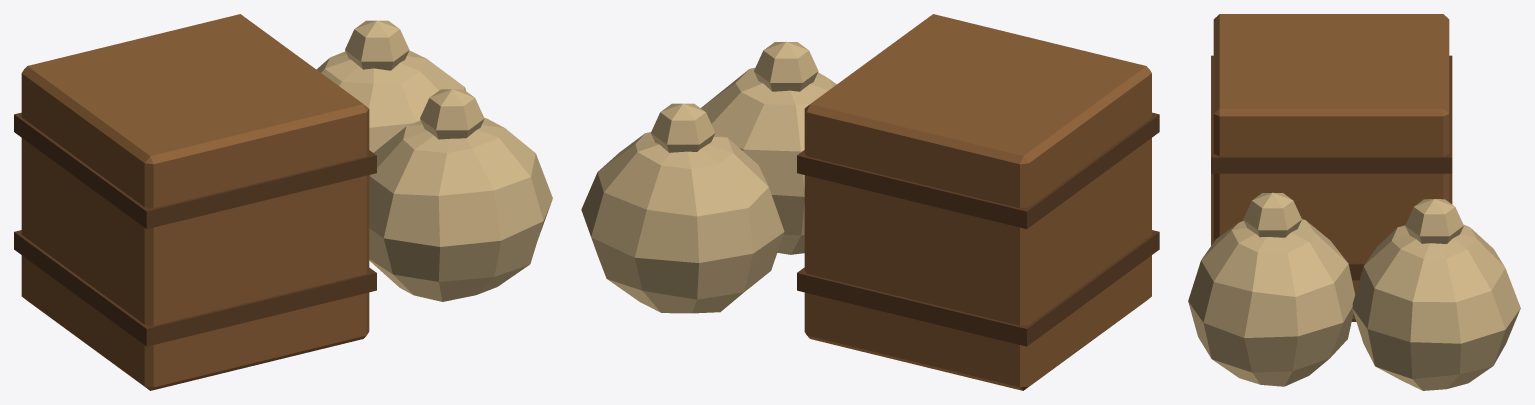
The model's file is map3_crate_sack_v01.glb.
The picture shows the model from 3 angles, left to right: view 1: azimuth 30°, elevation 25°; view 2: azimuth 150°, elevation 25°; view 3: azimuth 270°, elevation 25°; orthographic projection. The views are drawn at different scales.
Visible parts, largest first — view 1: crate_sack; view 2: crate_sack; view 3: crate_sack.
Boxes of the visible parts, box(x1,y1,x2,y2) form: crate_sack: box(14, 14, 552, 390); crate_sack: box(581, 14, 1159, 390); crate_sack: box(1188, 14, 1520, 390).
Bounding box in the file's own units: 1.57 × 0.809 × 1.13.
